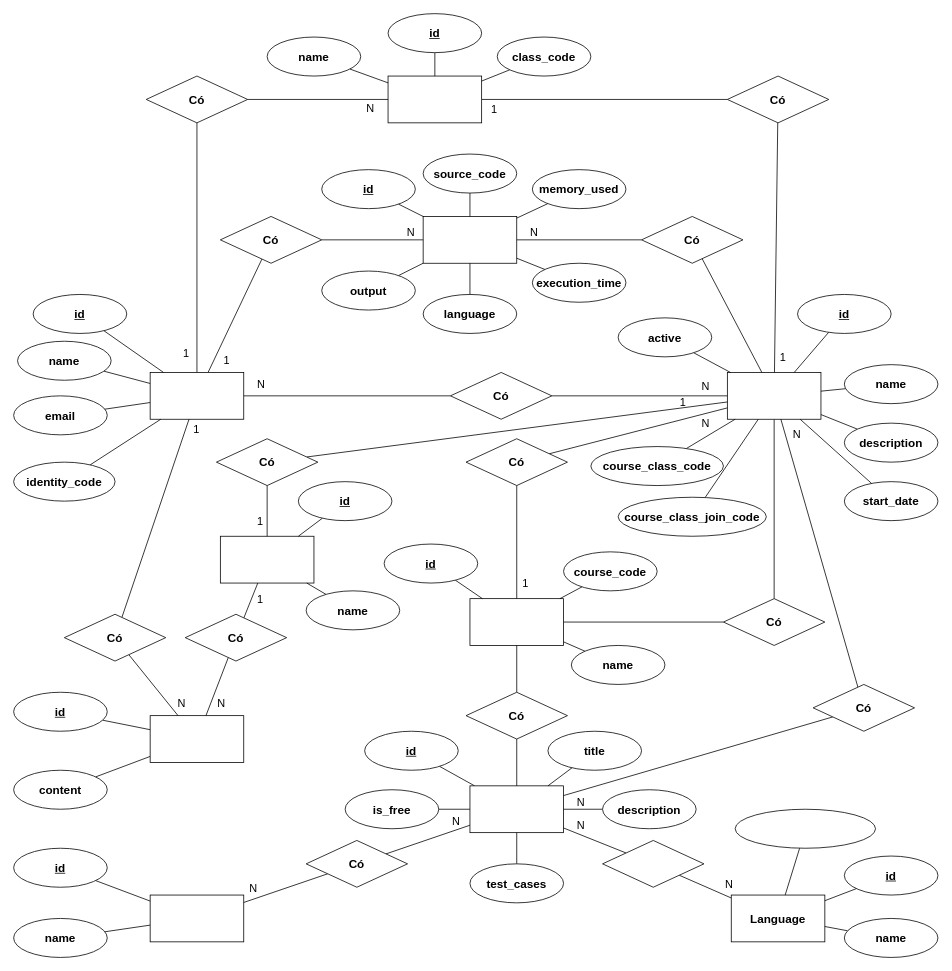
Image size: 952x971. Some labels were removed from this diagram. Each missing label, with the box of its shape:
Conversation: (220, 535, 314, 583)
Course: (469, 598, 564, 645)
Course Class: (727, 372, 821, 419)
Exercise: (469, 785, 564, 833)
judge_language_id: (734, 808, 876, 848)
Message: (149, 715, 244, 762)
Regular Class: (387, 75, 482, 123)
Submission: (422, 216, 517, 263)
Topic: (149, 894, 244, 942)
User: (149, 372, 244, 419)
Được hỗ trợ: (602, 840, 704, 887)
